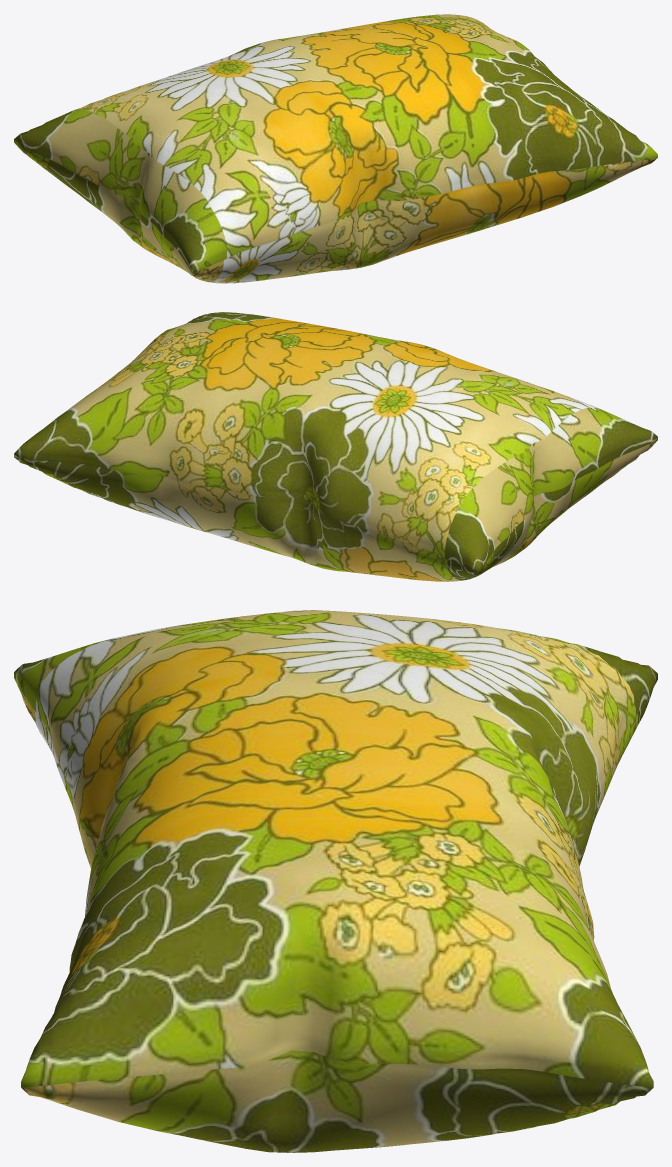
File: pillow_02.fbx
3 views of the same model, one above another, from view 1: azimuth 30°, elevation 25°; view 2: azimuth 150°, elevation 25°; view 3: azimuth 270°, elevation 25° (orthographic). The views are drawn at different scales.
Visible parts, largest first — view 1: pillow_02:pillow_floral; view 2: pillow_02:pillow_floral; view 3: pillow_02:pillow_floral.
Boxes of the visible parts, box(x1,y1,x2,y2) form: pillow_02:pillow_floral: box(14, 14, 657, 283); pillow_02:pillow_floral: box(14, 312, 657, 581); pillow_02:pillow_floral: box(14, 610, 657, 1152).
Bounding box in the file's own units: 71.78 × 27.3 × 47.71.
1 material, 1 textured.
